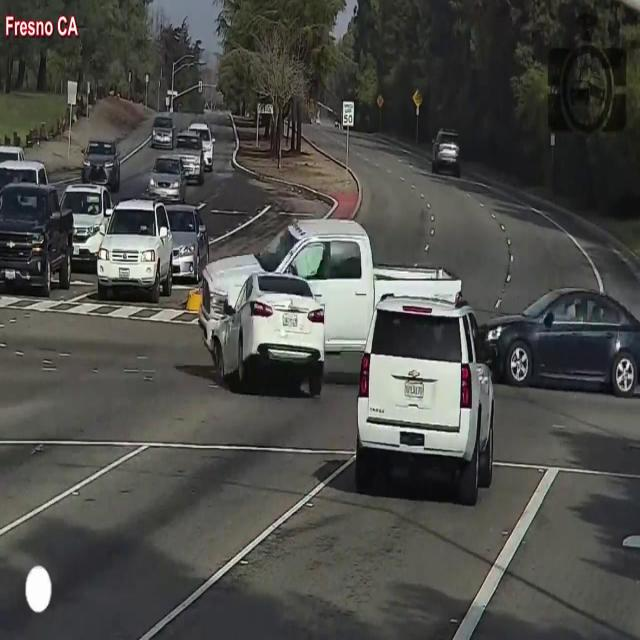accident: (191, 200, 467, 418)
non_accident: (0, 155, 174, 305), (125, 115, 223, 217)
